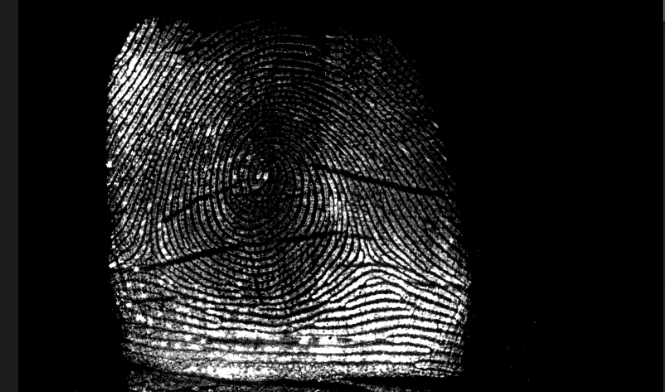nucelo: (238, 149, 274, 194)
verticilo: (132, 238, 167, 267), (350, 233, 378, 269)
